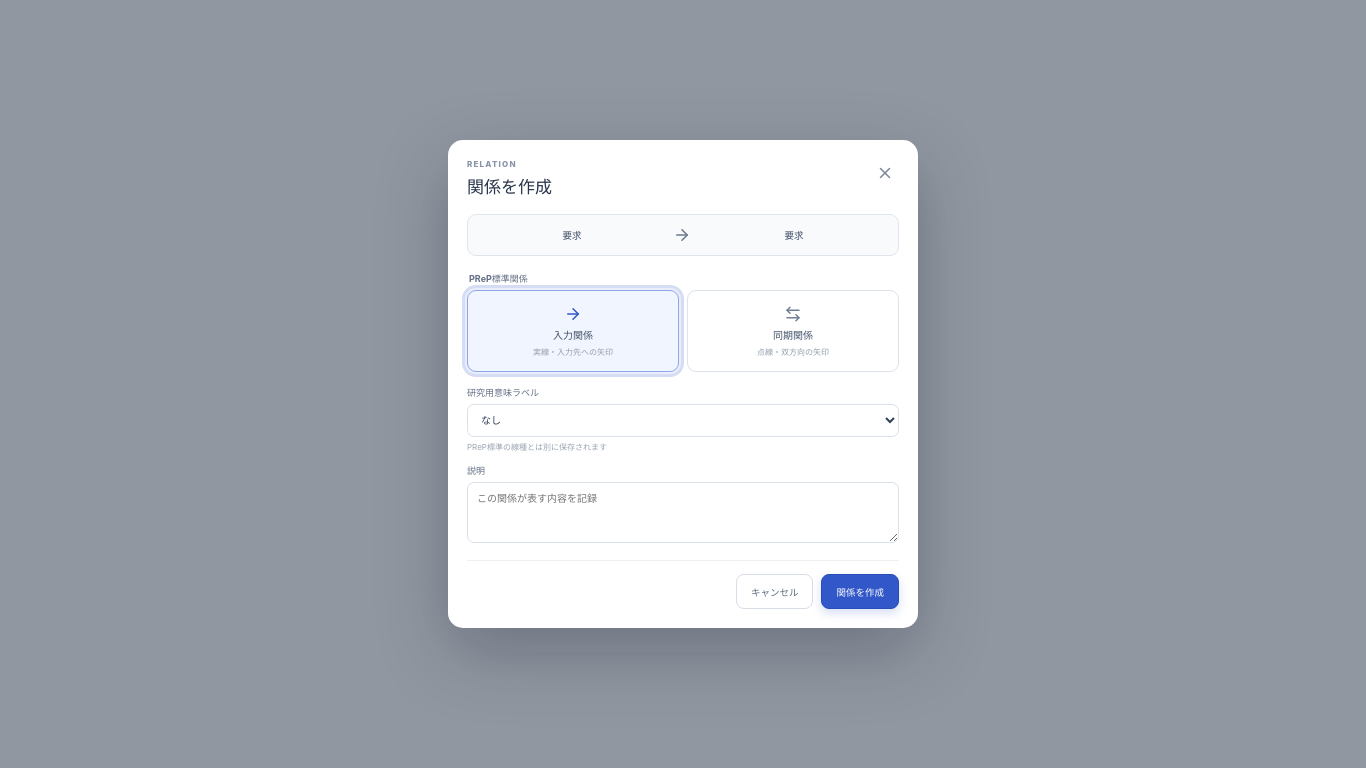
Scenario: RelationDialog › rejects a synchronization relation to the same element
Click the text "同期関係": (793, 334) [773,327,813,342]
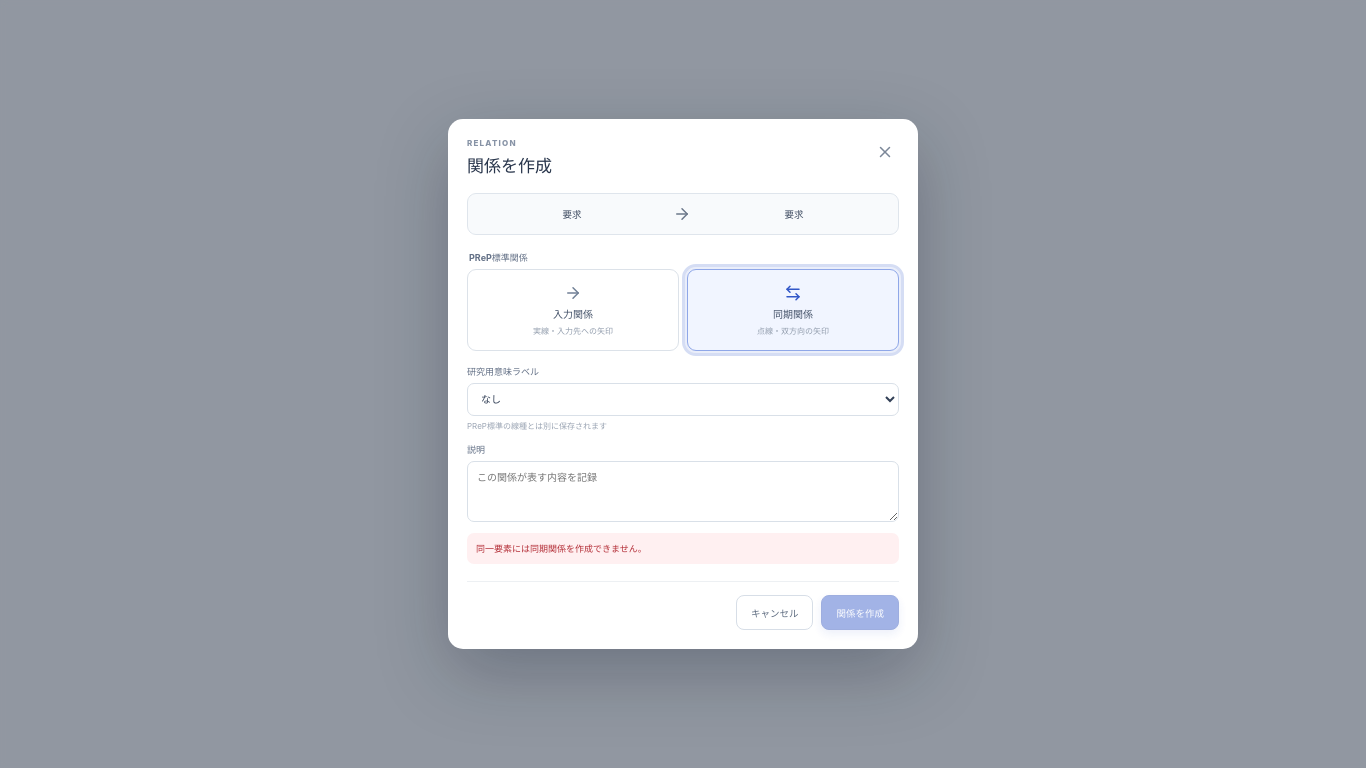
Now the text "同一要素には同期関係を作成できません。" is shown, box [467,533,899,564]
Now the button with test id "confirm-relation" is disabled, box [822,595,899,630]
